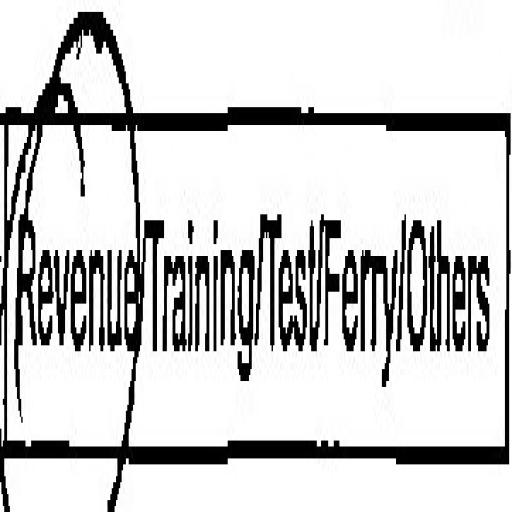check: (0, 0, 143, 512)
